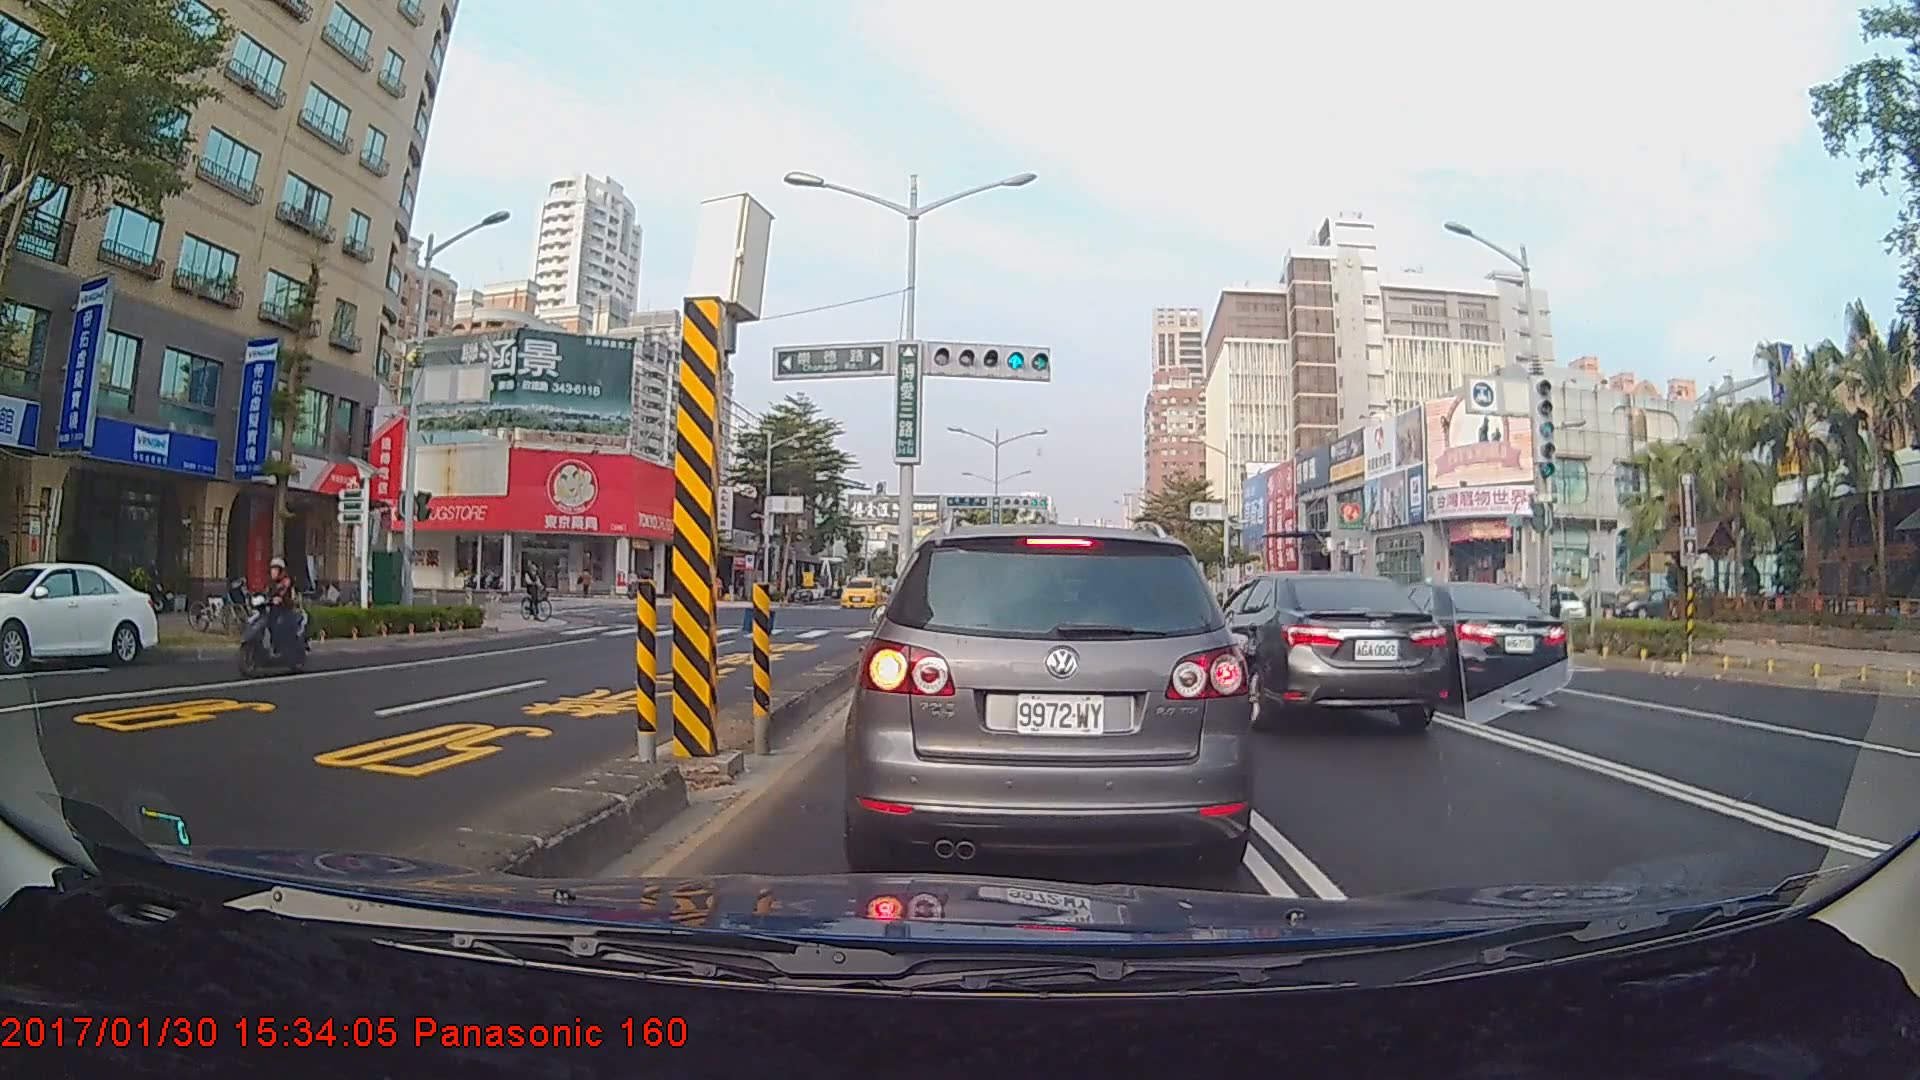rider: (224, 557, 311, 679), (518, 559, 561, 626)
vehicle: (857, 523, 1244, 875), (1189, 567, 1452, 740), (1377, 579, 1575, 707), (0, 561, 162, 671), (840, 577, 883, 609)
